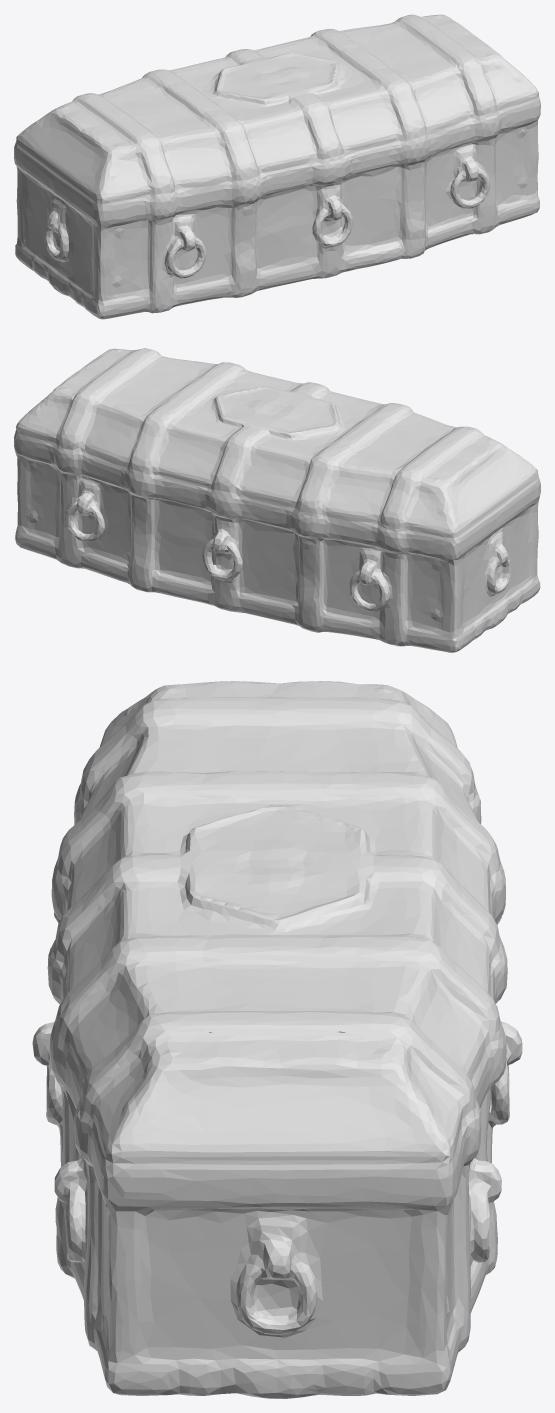
The model's file is coffin01.glb.
The picture shows the model from 3 angles, top to bottom: view 1: azimuth 30°, elevation 25°; view 2: azimuth 150°, elevation 25°; view 3: azimuth 270°, elevation 25°; orthographic projection. The views are drawn at different scales.
Parts seen in each view (by area): view 1: Low; view 2: Low; view 3: Low.
Boxes of the visible parts, box(x1,y1,x2,y2) form: Low: box(14, 14, 540, 319); Low: box(14, 348, 540, 652); Low: box(32, 681, 522, 1398).
Size of the model in its own units: 1.99 by 0.6918 by 0.9232.
Materials: 1 (1 with a texture image).
